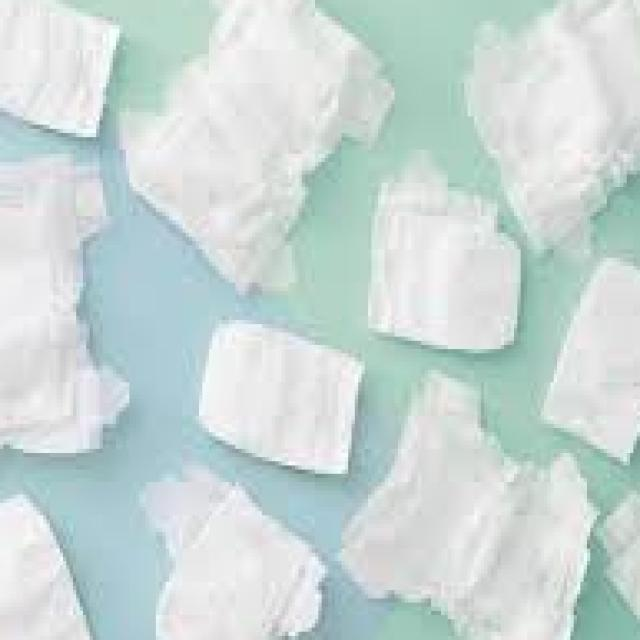organic: (8, 312, 621, 633), (120, 12, 380, 290), (339, 151, 545, 387), (446, 8, 621, 232)
